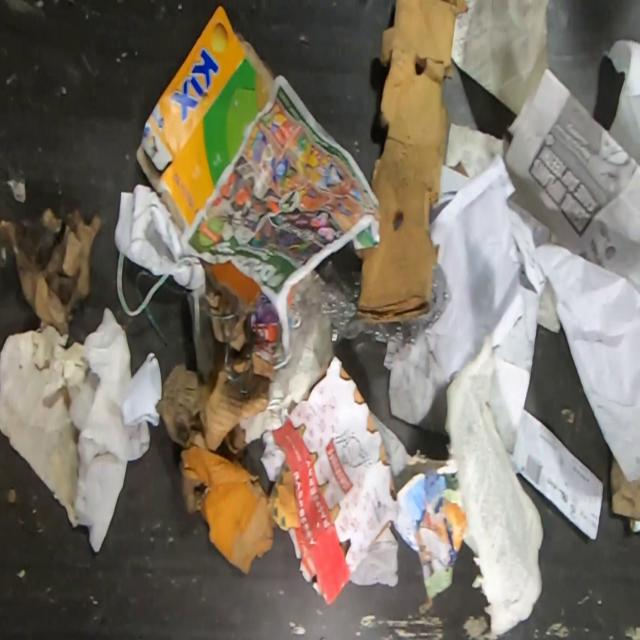cardboard: (356, 0, 468, 321), (260, 353, 402, 604), (133, 0, 274, 240), (154, 253, 273, 458), (177, 446, 301, 575), (0, 205, 105, 337), (612, 459, 640, 518)
rigid_plastic: (292, 260, 453, 348)
